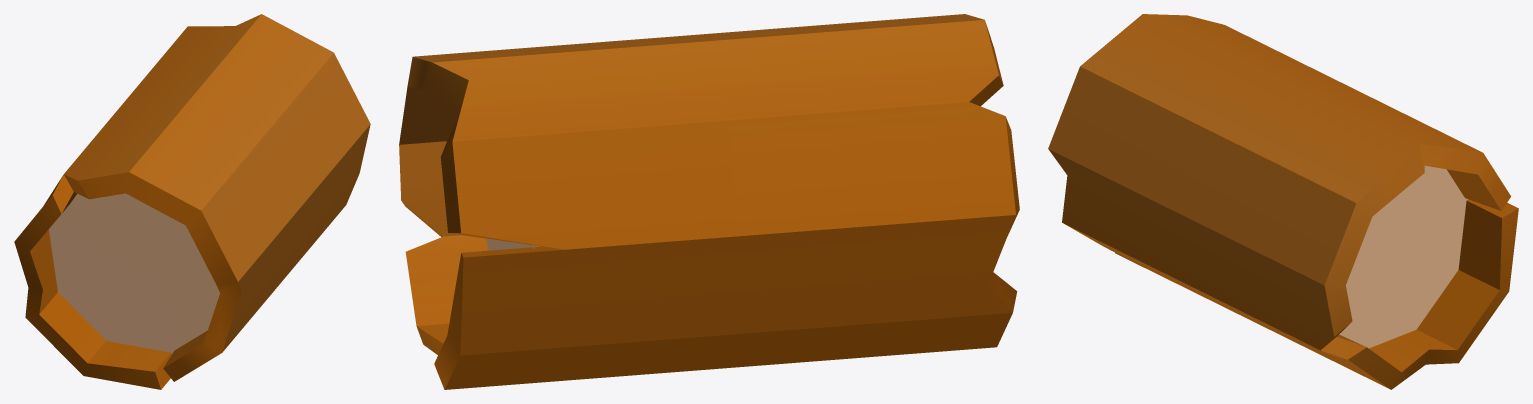
File: goccay.fbx
3 renders of one model, left to right at view 1: azimuth 30°, elevation 25°; view 2: azimuth 150°, elevation 25°; view 3: azimuth 270°, elevation 25°, orthographic. The views are drawn at different scales.
Parts seen in each view (by area): view 1: goccay; view 2: goccay; view 3: goccay.
Part boxes in pixels (x1,y1,x2,y2): goccay: (14, 14, 370, 389); goccay: (399, 14, 1019, 389); goccay: (1048, 14, 1518, 389).
Bounding box in the file's own units: 190 × 98.43 × 183.
